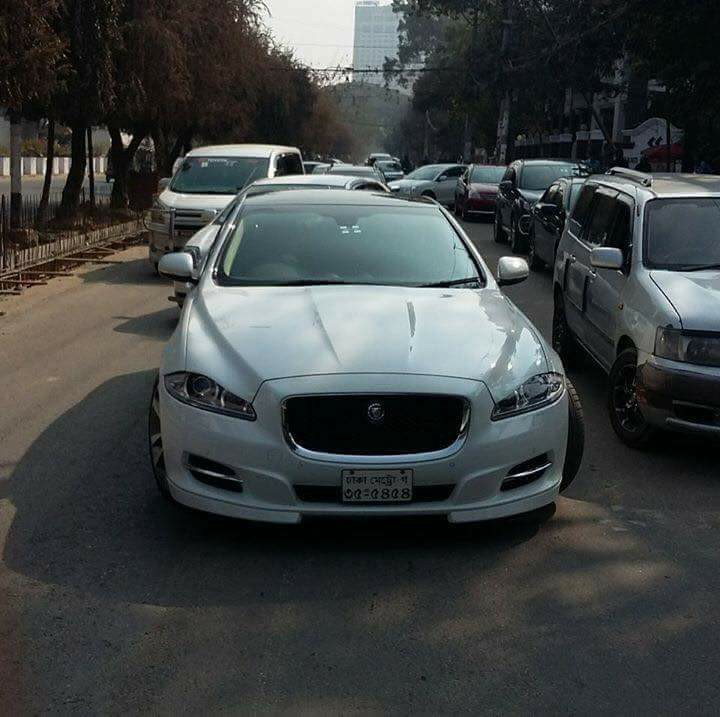registration_plate: (341, 467, 414, 502)
